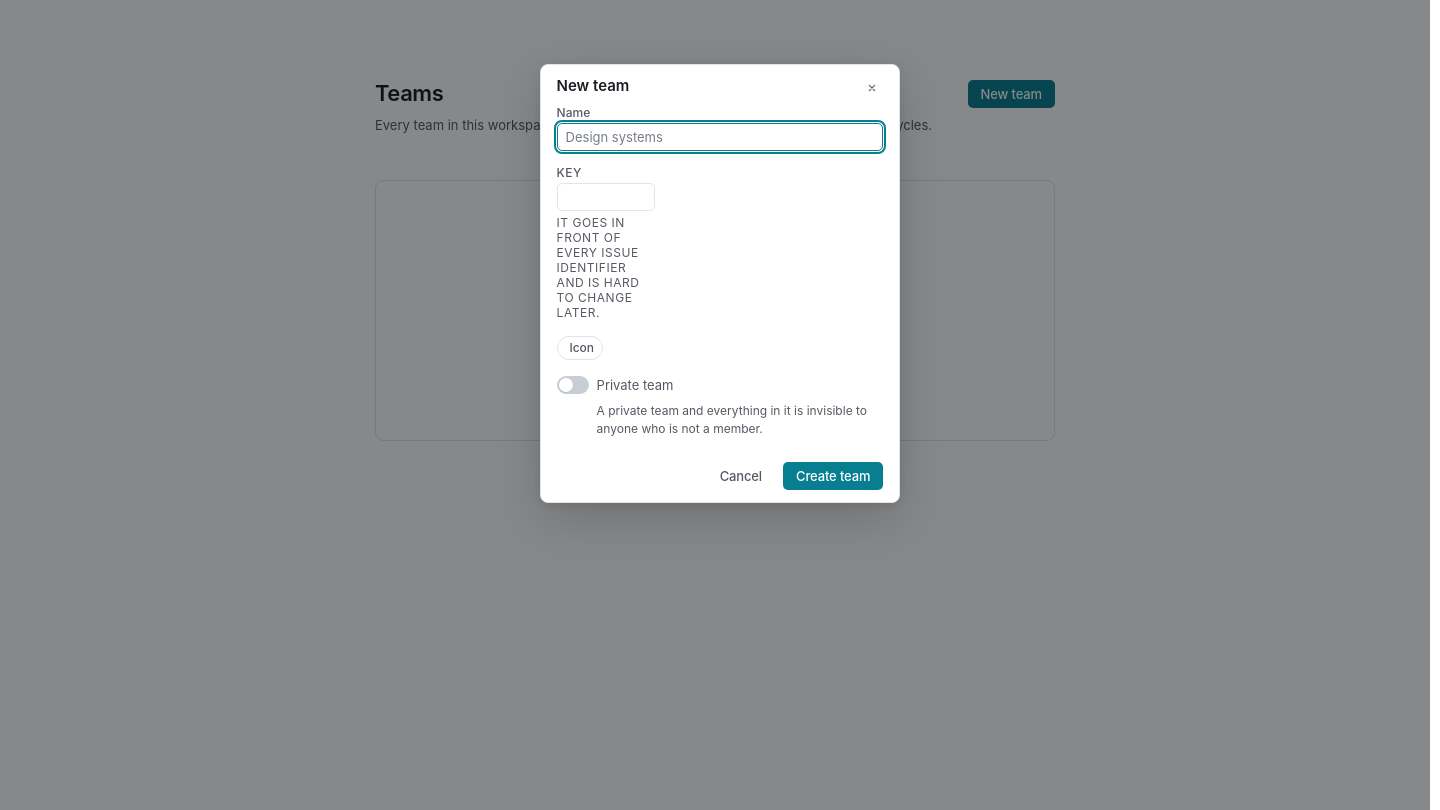
Test: TeamsSettings › refuses a name that suggests no key rather than posting an empty one
This screenshot has width=1440, height=810.
In the field labelled "Name": (720, 137) [566,124,874,150], type "123"
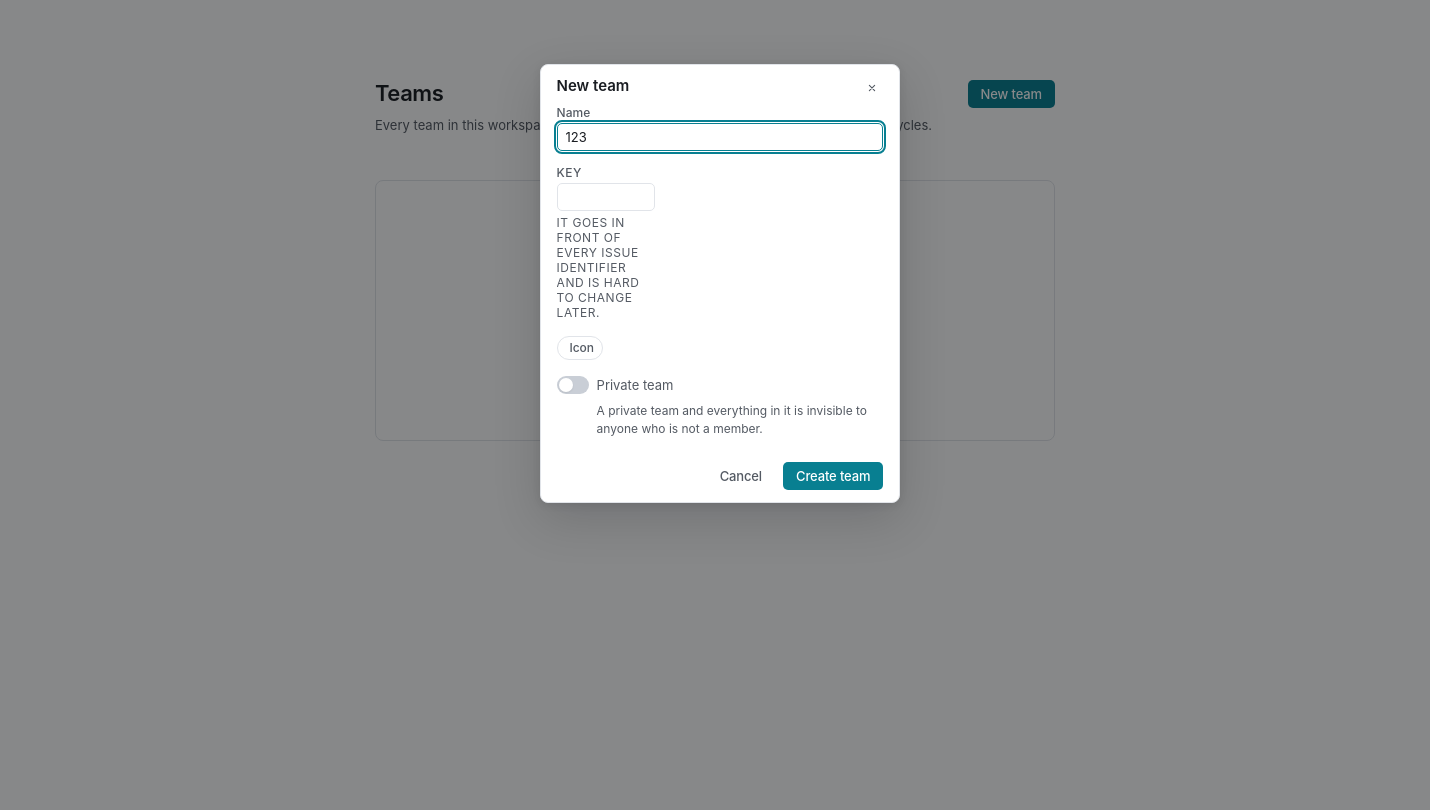
Click the button "Create team": (833, 476) [783,462,883,490]
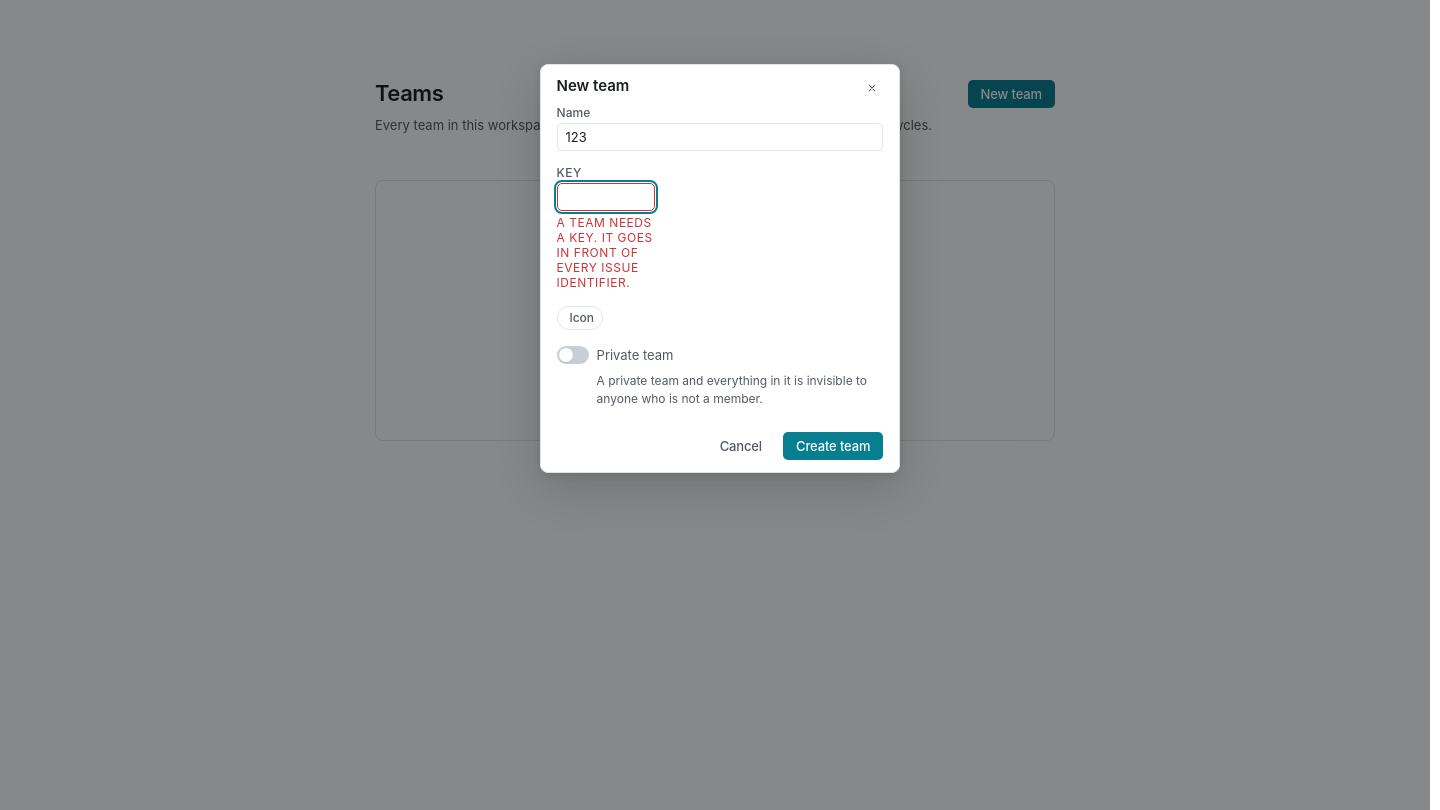
Expected: the text "A team needs a key. It goes in front of every issue identifier." is shown, [557,215,655,290]
